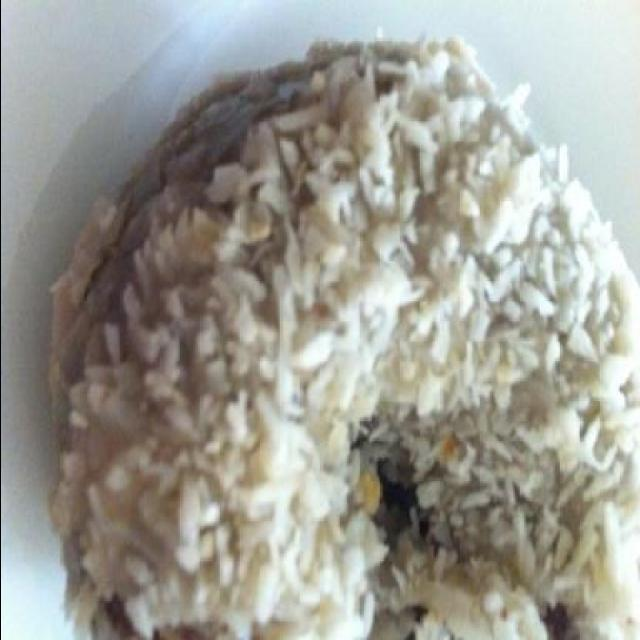Donuts: (28, 36, 636, 638)
